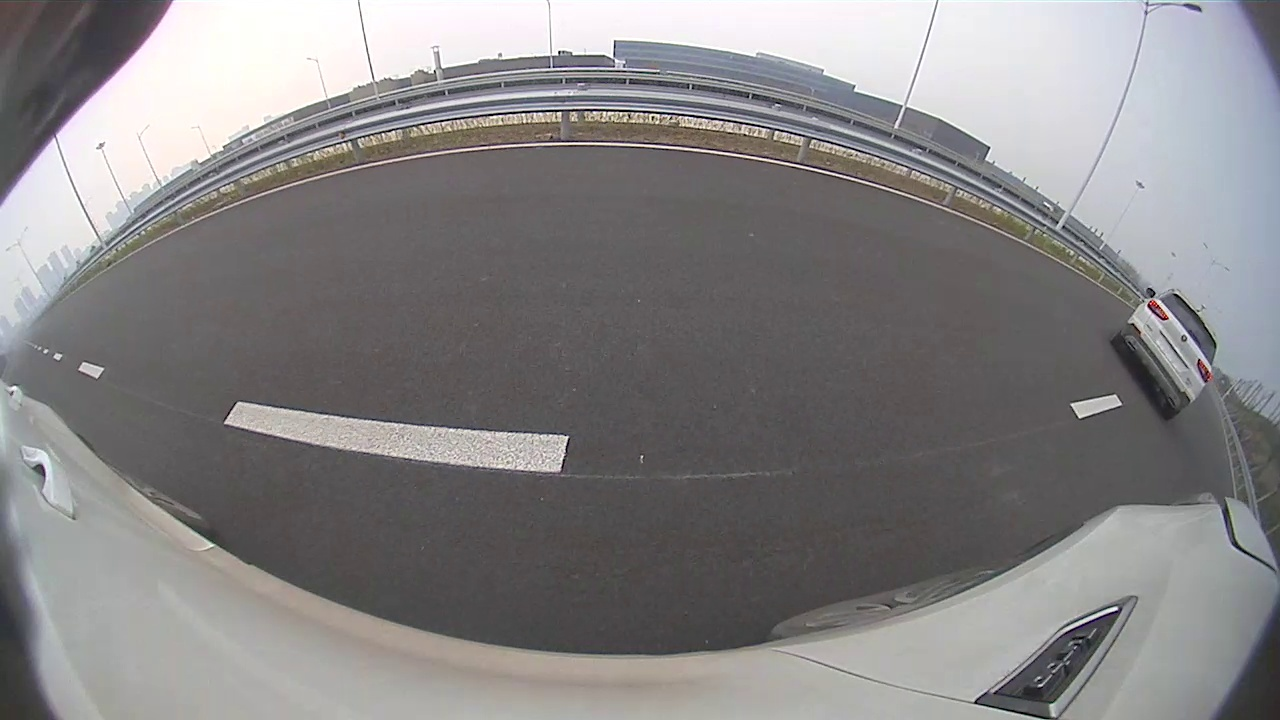car: (1112, 289, 1218, 420)
